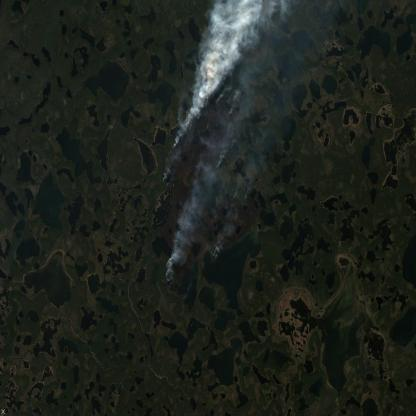fire: (153, 32, 261, 295)
